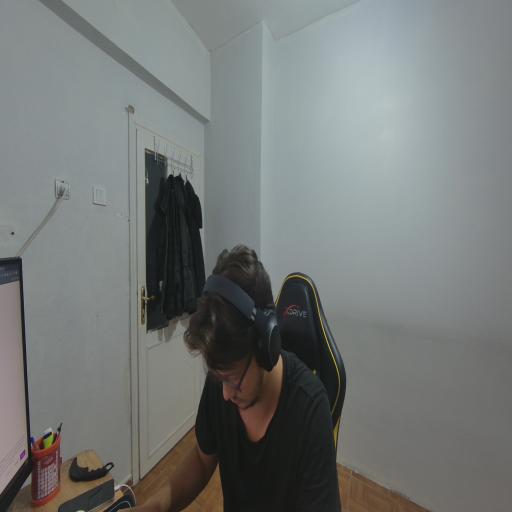cuma-face-v2: (191, 248, 293, 419)
